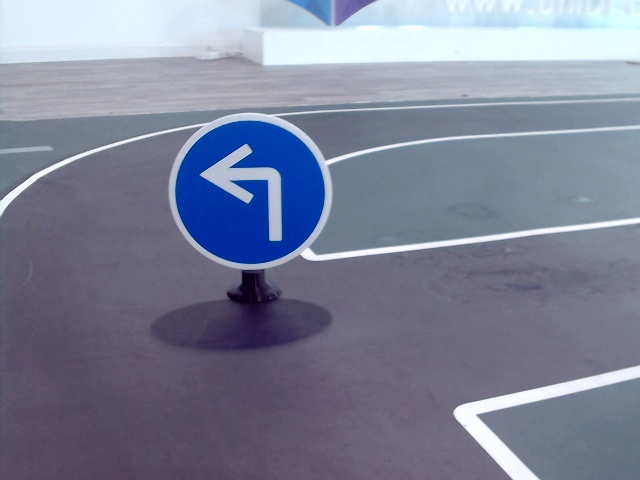turn_left: (200, 142, 292, 240)
